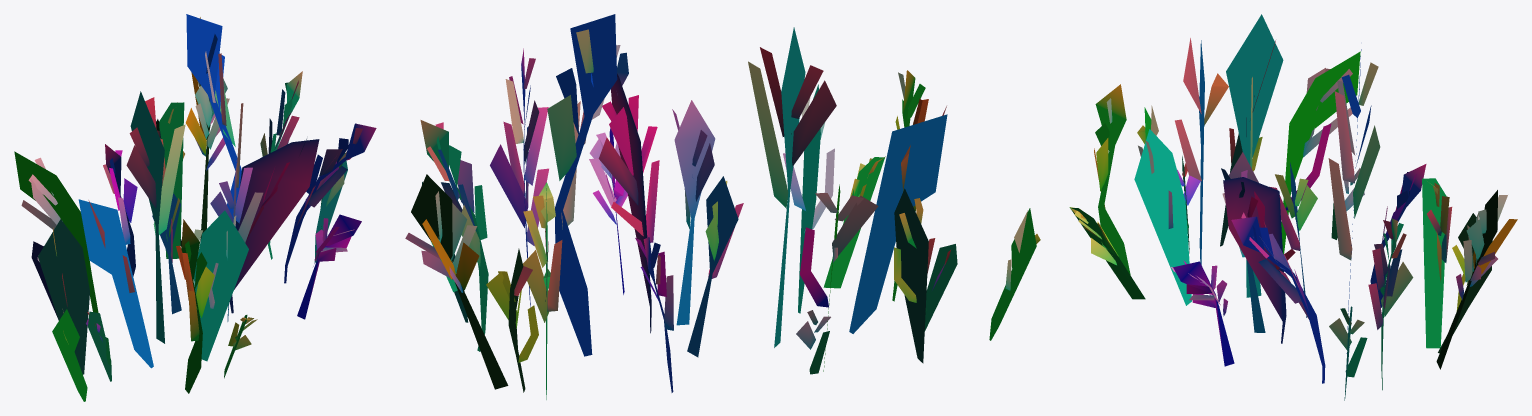
The model's file is Nordic_Coastal_Groundcover_vlqkdeaja_Mid_vlqkdeaja_VarH_LOD3.fbx.
3 renders of one model, left to right at view 1: azimuth 30°, elevation 25°; view 2: azimuth 150°, elevation 25°; view 3: azimuth 270°, elevation 25°, orthographic. The views are drawn at different scales.
Parts seen in each view (by area): view 1: _wjuu_VarH_LOD5; view 2: _wjuu_VarH_LOD5; view 3: _wjuu_VarH_LOD5.
Boxes of the visible parts, left/top/right/bottom form: _wjuu_VarH_LOD5: left=14, top=14, right=376, bottom=401; _wjuu_VarH_LOD5: left=405, top=14, right=1040, bottom=399; _wjuu_VarH_LOD5: left=1069, top=14, right=1517, bottom=400.
Bounding box in the file's own units: 130 × 89.55 × 121.
